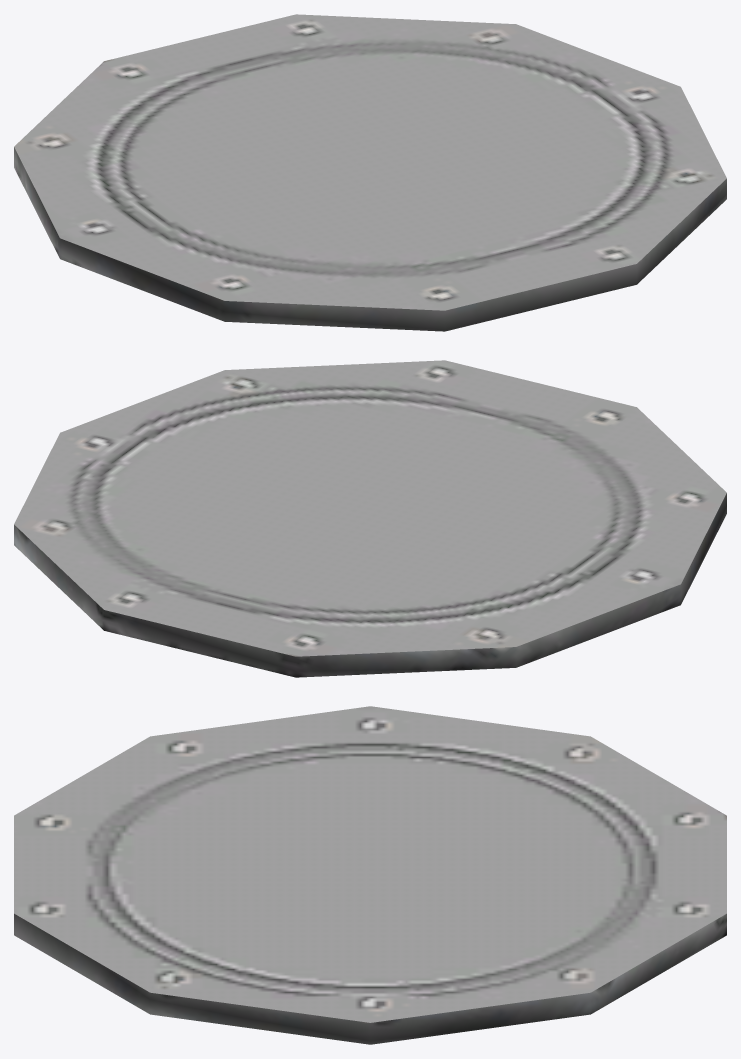
File: msa.glb
3 renders of one model, top to bottom at view 1: azimuth 30°, elevation 25°; view 2: azimuth 150°, elevation 25°; view 3: azimuth 270°, elevation 25°, orthographic. The views are drawn at different scales.
Visible parts, largest first — view 1: msa-col; view 2: msa-col; view 3: msa-col.
Boxes of the visible parts, bbox=[...] form: msa-col: bbox=[14, 14, 726, 331]; msa-col: bbox=[14, 360, 726, 677]; msa-col: bbox=[14, 706, 726, 1044].
Size of the model in its own units: 0.5224 by 0.0786 by 0.4968.
Materials: 1 (1 with a texture image).
